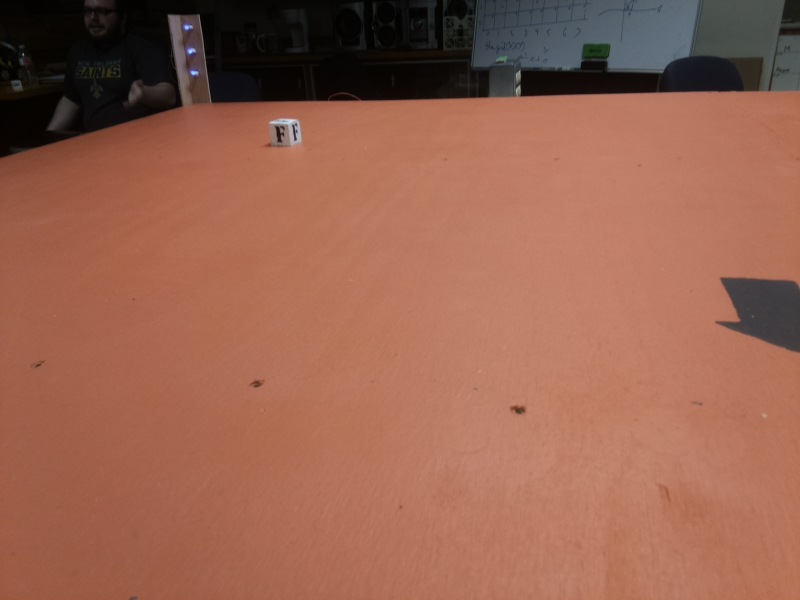blockF: (268, 119, 310, 149)
corner: (166, 12, 217, 109)
start: (708, 269, 799, 354)
